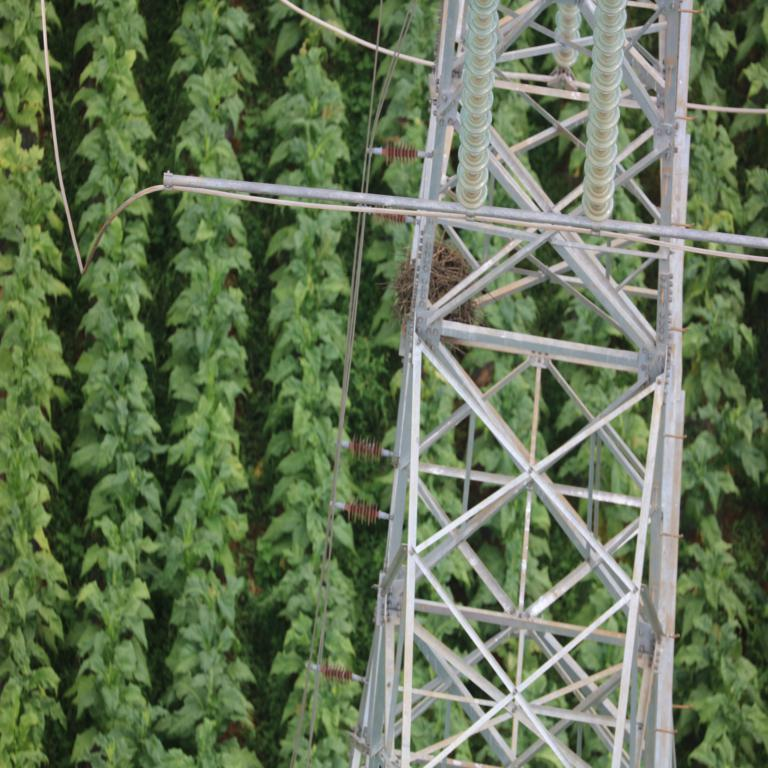nest: (397, 250, 471, 346)
